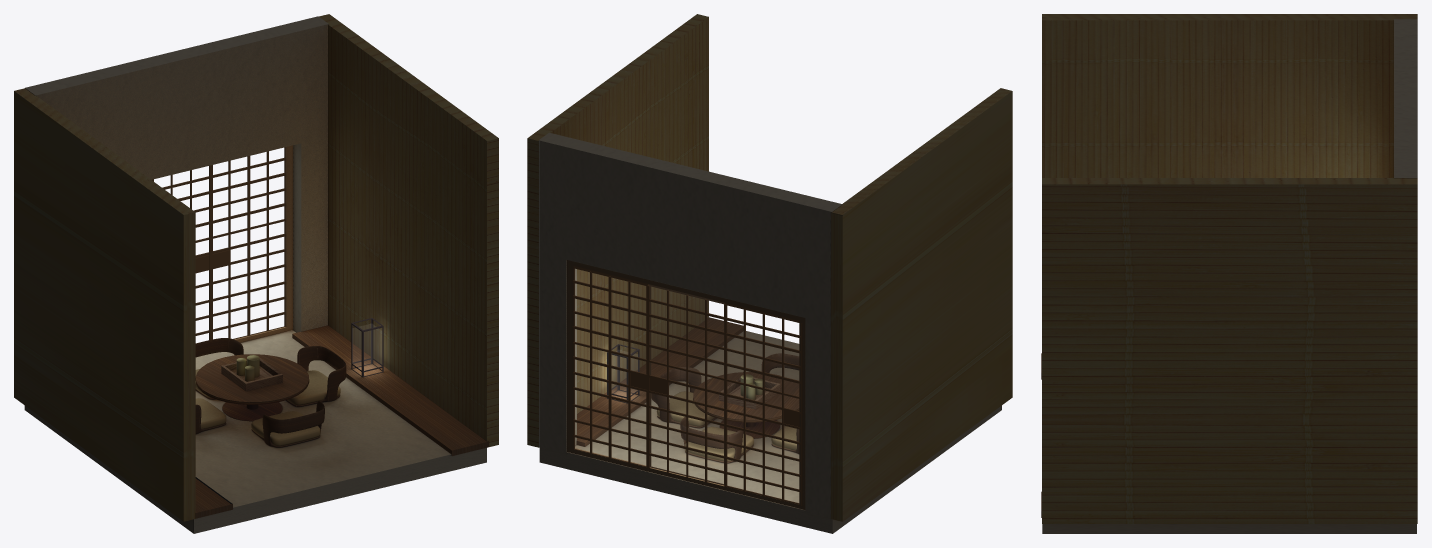
File: room1.gltf
3 renders of one model, left to right at view 1: azimuth 30°, elevation 25°; view 2: azimuth 150°, elevation 25°; view 3: azimuth 270°, elevation 25°, orthographic. The views are drawn at different scales.
Visible parts, largest first — view 1: Room; view 2: Room; view 3: Room.
Boxes of the visible parts, x1,y1,x2,y2 form: Room: [14, 14, 498, 533]; Room: [527, 14, 1012, 533]; Room: [1041, 14, 1417, 533].
Size of the model in its own units: 28.17 by 27.5 by 26.32.
Materials: 16 (15 with a texture image).
